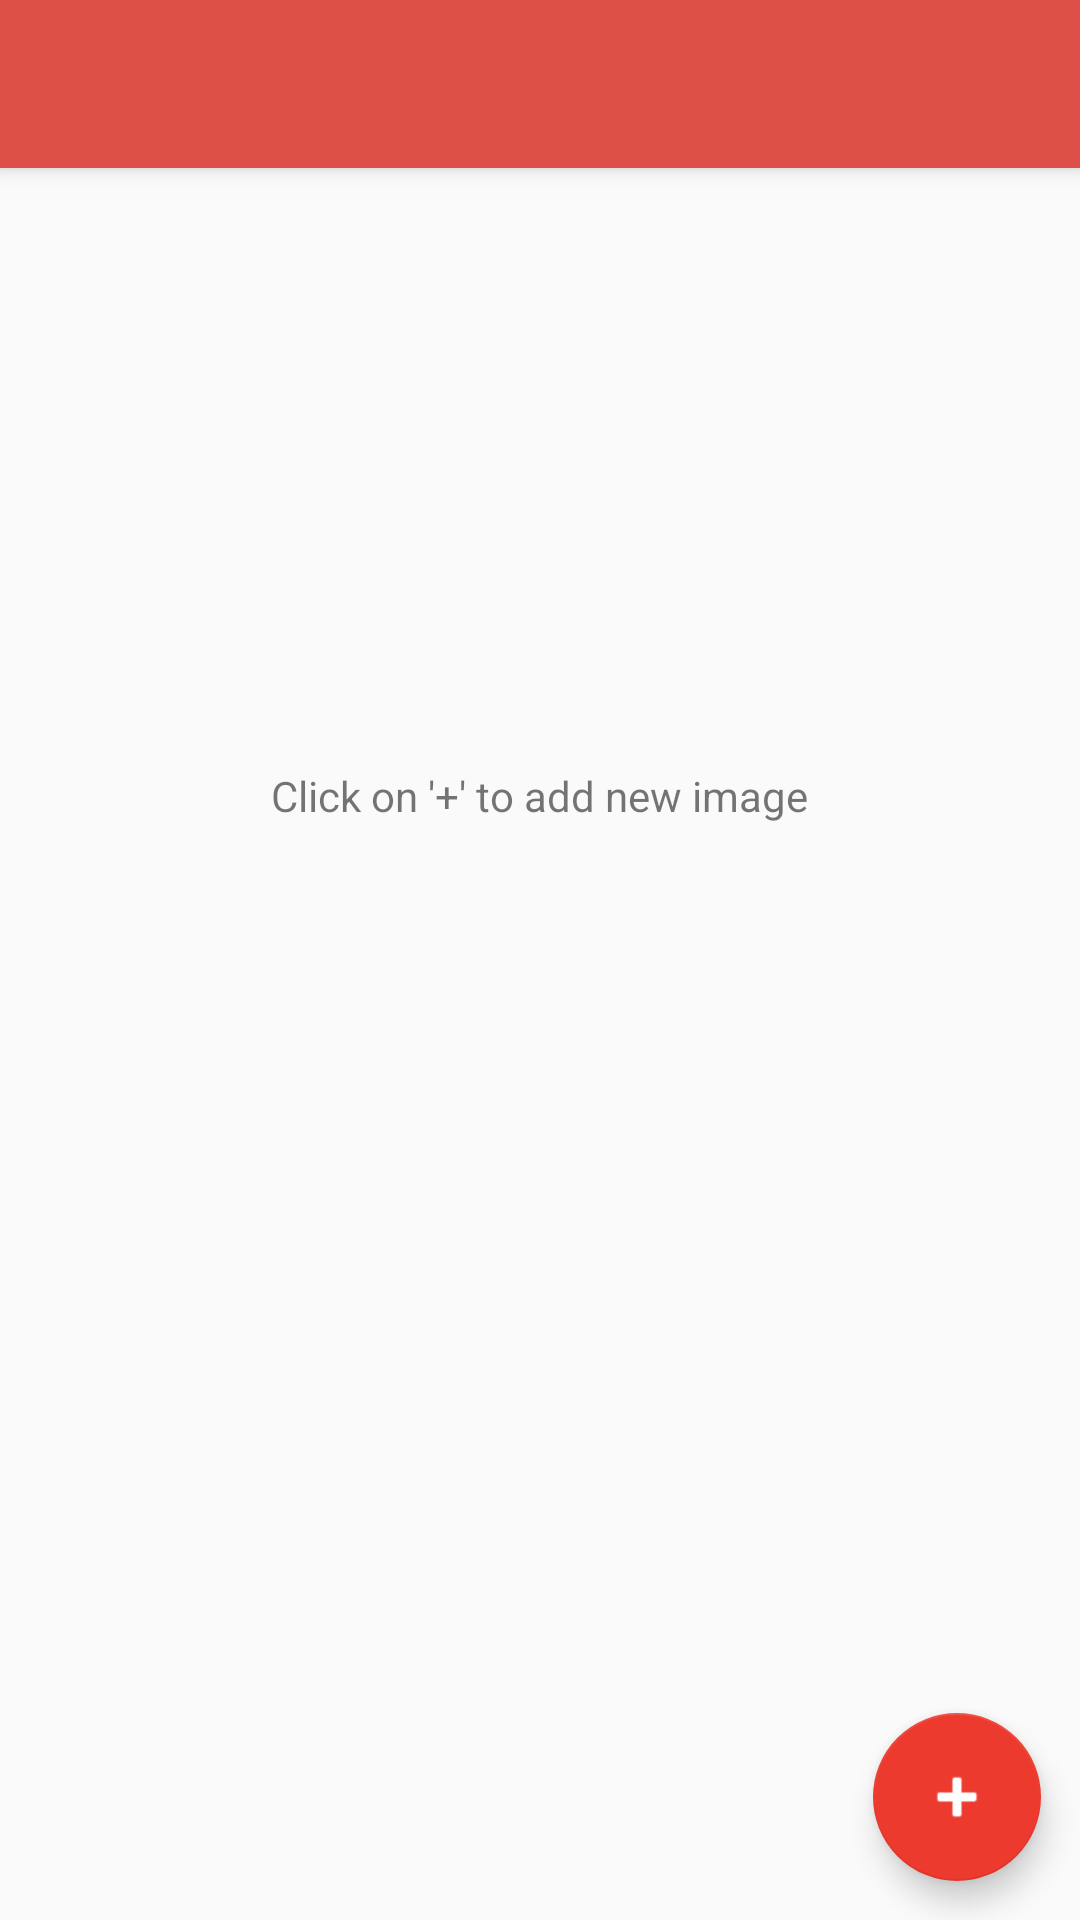

Named icons in this screenshot (1080 x 1920) and their bounding boxes, [left=x1, top=y1, right=x2, bottom=y2]:
add: [left=873, top=1713, right=1041, bottom=1881]
